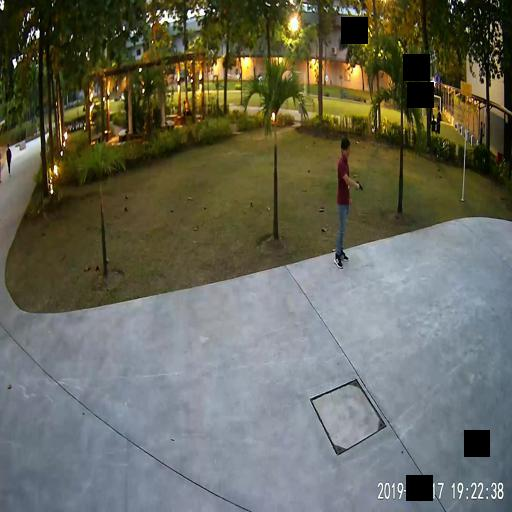Handgun: (354, 180, 361, 190)
